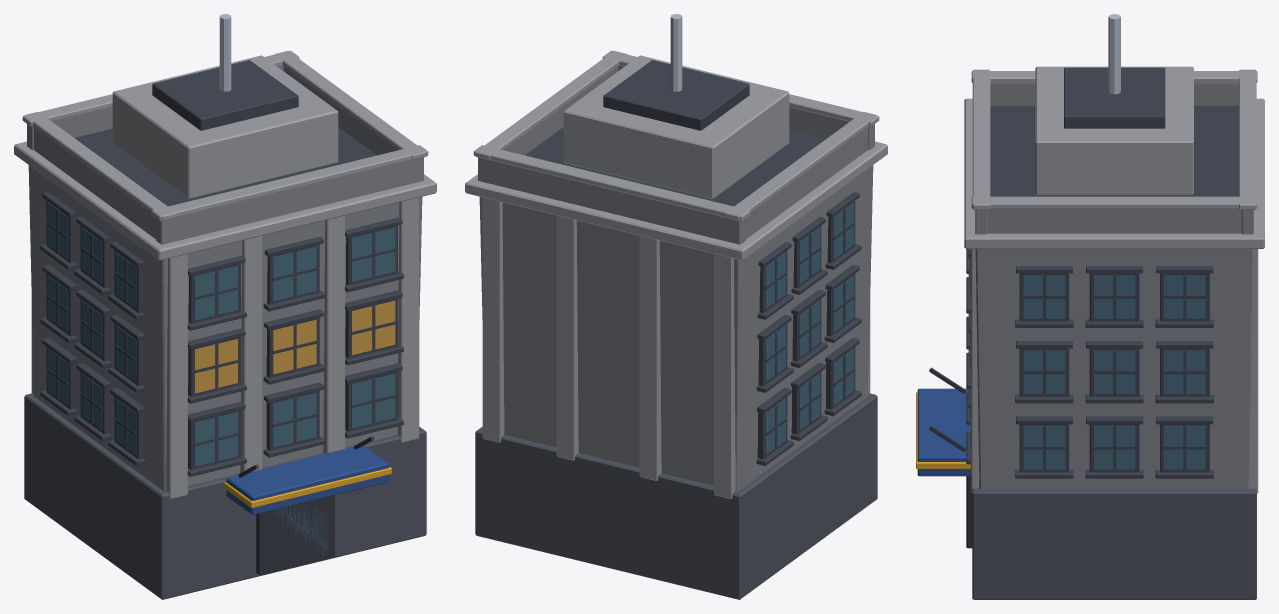
The model's file is Stylized_Apoc_Building_02_Office_Glass_Ruin.fbx.
3 views of the same model, side by side, from view 1: azimuth 30°, elevation 25°; view 2: azimuth 150°, elevation 25°; view 3: azimuth 270°, elevation 25° (orthographic). The views are drawn at different scales.
Visible parts, largest first — view 1: Stylized_Apoc_Building_02_Office_Glass_Ruin; view 2: Stylized_Apoc_Building_02_Office_Glass_Ruin; view 3: Stylized_Apoc_Building_02_Office_Glass_Ruin.
Part boxes in pixels (x1,y1,x2,y2): Stylized_Apoc_Building_02_Office_Glass_Ruin: [14, 14, 436, 599]; Stylized_Apoc_Building_02_Office_Glass_Ruin: [465, 14, 887, 599]; Stylized_Apoc_Building_02_Office_Glass_Ruin: [916, 14, 1264, 599].
Size of the model in its own units: 6.38 by 10.97 by 6.71.
